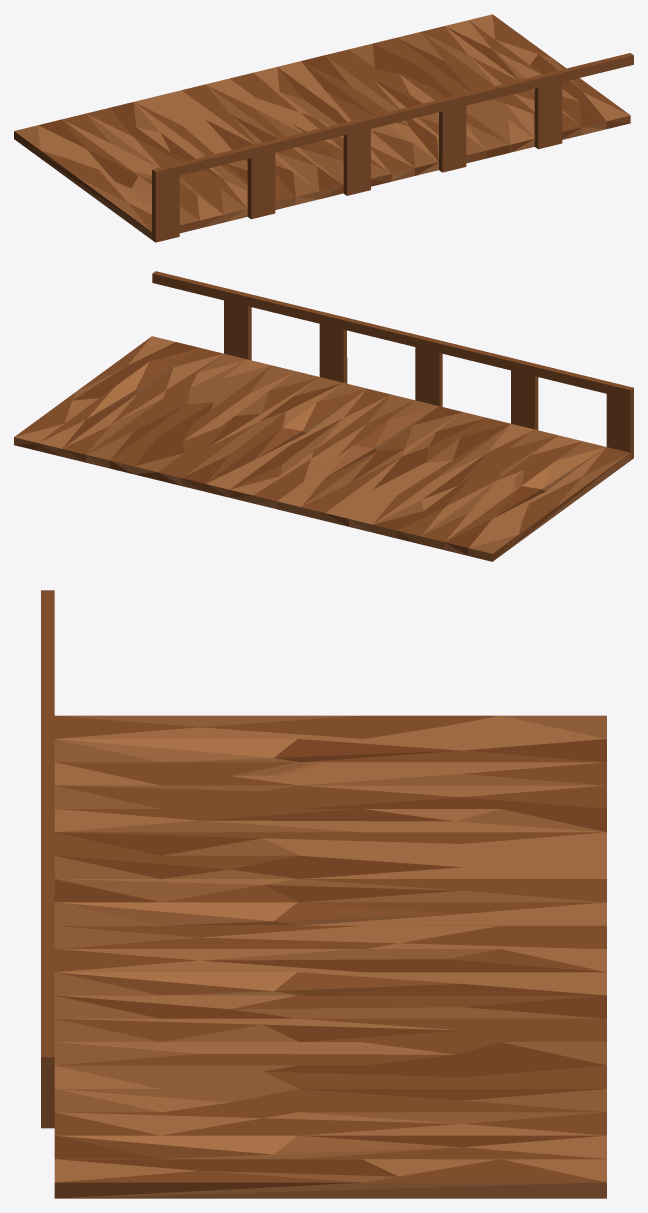
File: Boardwalk.fbx
The picture shows the model from 3 angles, top to bottom: view 1: azimuth 30°, elevation 25°; view 2: azimuth 150°, elevation 25°; view 3: azimuth 270°, elevation 25°; orthographic projection. The views are drawn at different scales.
Visible parts, largest first — view 1: polySurface5335; view 2: polySurface5335; view 3: polySurface5335.
Part boxes in pixels (bbox=[...]): polySurface5335: bbox=[14, 14, 633, 242]; polySurface5335: bbox=[14, 271, 633, 561]; polySurface5335: bbox=[41, 590, 606, 1198].
Size of the model in its own units: 800 by 113 by 410.
